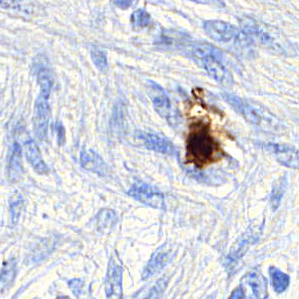Lymphocyte: (181, 86, 227, 171)
